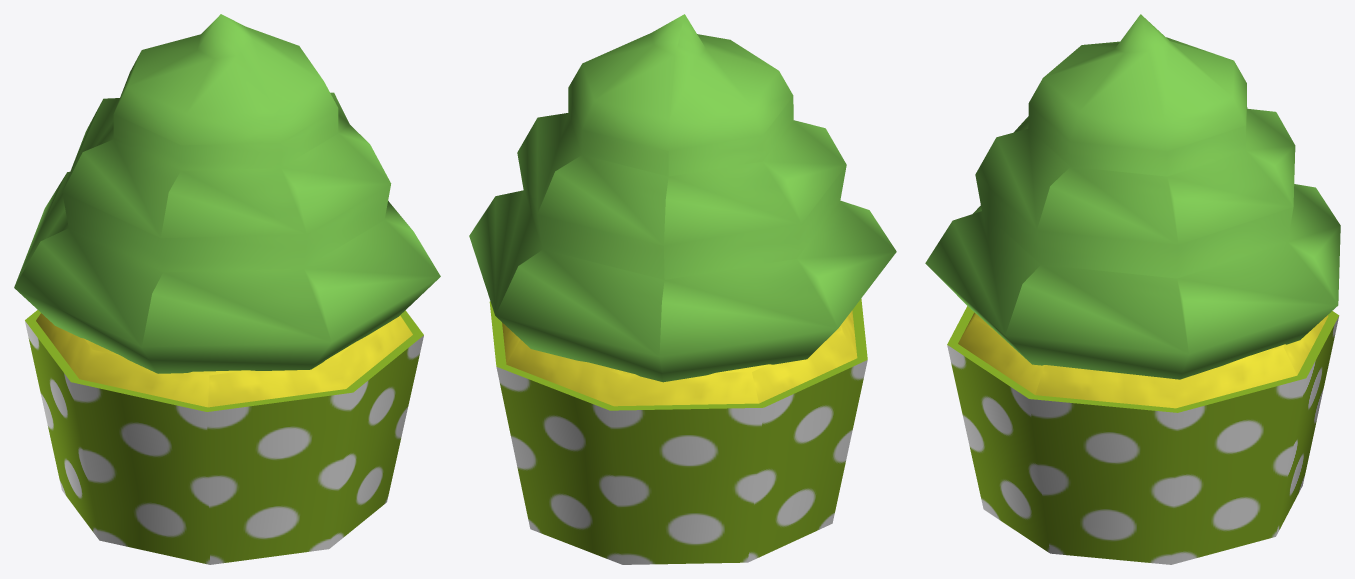
File: Cupcake_A_4.FBX
3 views of the same model, side by side, from view 1: azimuth 30°, elevation 25°; view 2: azimuth 150°, elevation 25°; view 3: azimuth 270°, elevation 25° (orthographic).
Parts seen in each view (by area): view 1: Cupcake; view 2: Cupcake; view 3: Cupcake.
Part boxes in pixels (box(x1,y1,x2,y2)): Cupcake: box(14, 14, 440, 564); Cupcake: box(469, 14, 896, 564); Cupcake: box(925, 14, 1340, 564).
Size of the model in its own units: 34.42 by 43.01 by 33.65.
